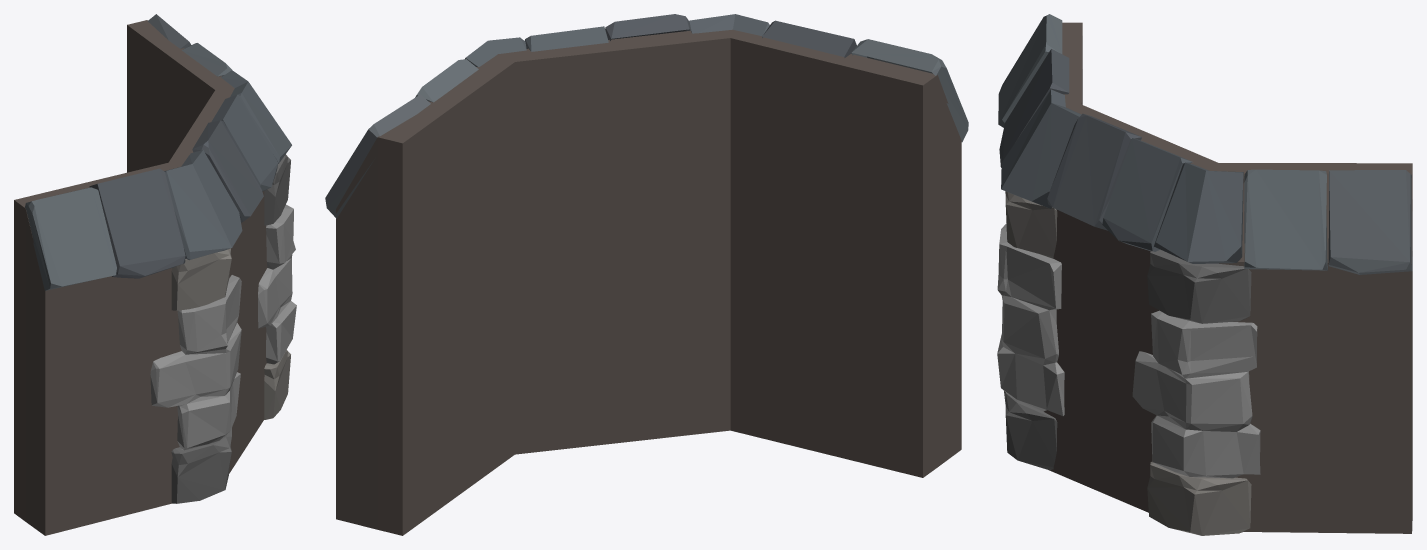
File: MCastle_OctWalls_SlateBase.FBX
3 views of the same model, side by side, from view 1: azimuth 30°, elevation 25°; view 2: azimuth 150°, elevation 25°; view 3: azimuth 270°, elevation 25° (orthographic). The views are drawn at different scales.
Parts seen in each view (by area): view 1: MCastle_OctWalls_SlateBase_LOD0; view 2: MCastle_OctWalls_SlateBase_LOD0; view 3: MCastle_OctWalls_SlateBase_LOD0.
Part boxes in pixels (box(x1,y1,x2,y2)): MCastle_OctWalls_SlateBase_LOD0: box(14, 14, 296, 535); MCastle_OctWalls_SlateBase_LOD0: box(325, 14, 968, 535); MCastle_OctWalls_SlateBase_LOD0: box(997, 14, 1412, 535).
Size of what is drawn, in the model's own units: 4.92 by 4.63 by 4.91.
